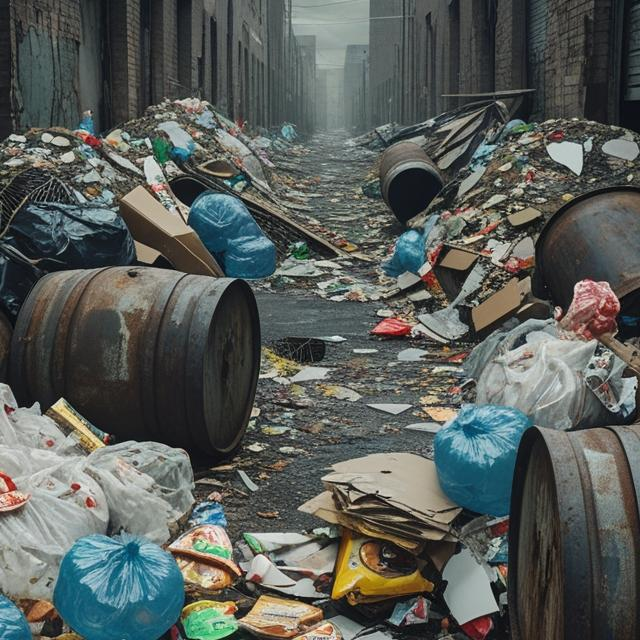metal: (26, 270, 269, 440), (525, 430, 640, 640)
plastic: (63, 537, 173, 640)
